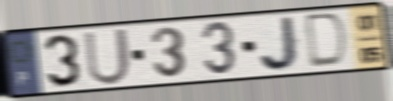3: (198, 18, 239, 79), (42, 31, 84, 90), (149, 25, 187, 80)
D: (305, 10, 351, 70)
J: (258, 15, 303, 74)
U: (82, 26, 133, 87)
